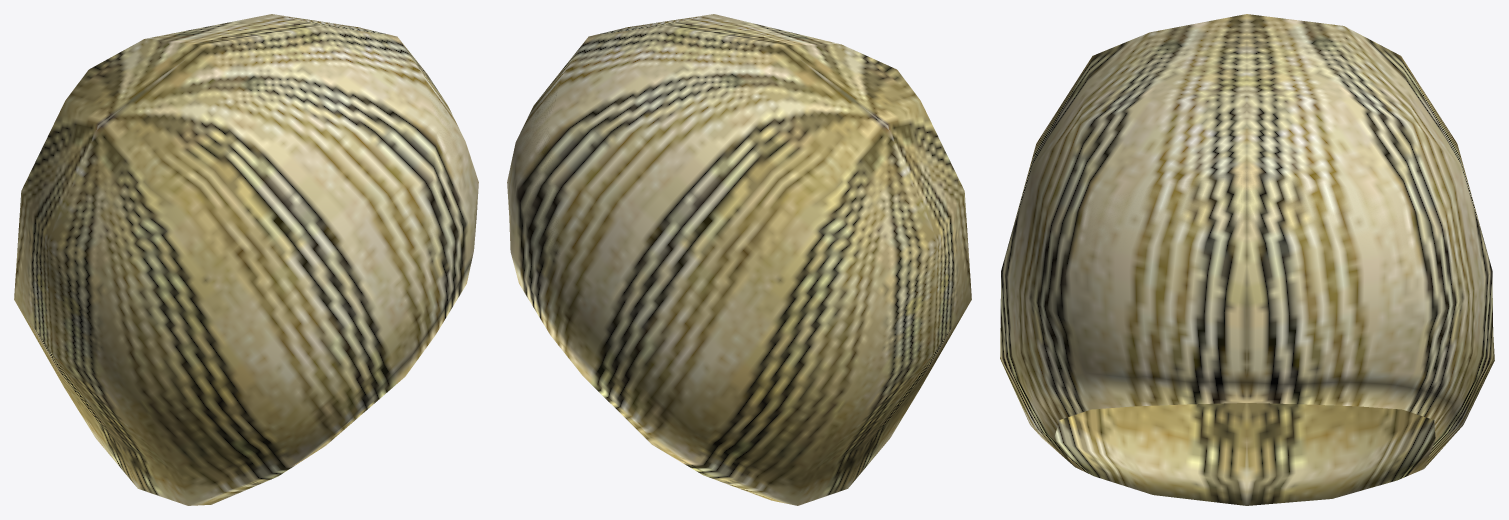
File: hat_0400036.FBX
3 renders of one model, left to right at view 1: azimuth 30°, elevation 25°; view 2: azimuth 150°, elevation 25°; view 3: azimuth 270°, elevation 25°, orthographic. The views are drawn at different scales.
Parts seen in each view (by area): view 1: hat_0400036; view 2: hat_0400036; view 3: hat_0400036.
Part boxes in pixels (x1=…): hat_0400036: x1=14, y1=14, x2=478, y2=505; hat_0400036: x1=507, y1=14, x2=971, y2=505; hat_0400036: x1=1000, y1=14, x2=1494, y2=505.
Size of the model in its own units: 27.11 by 28.35 by 24.67.
